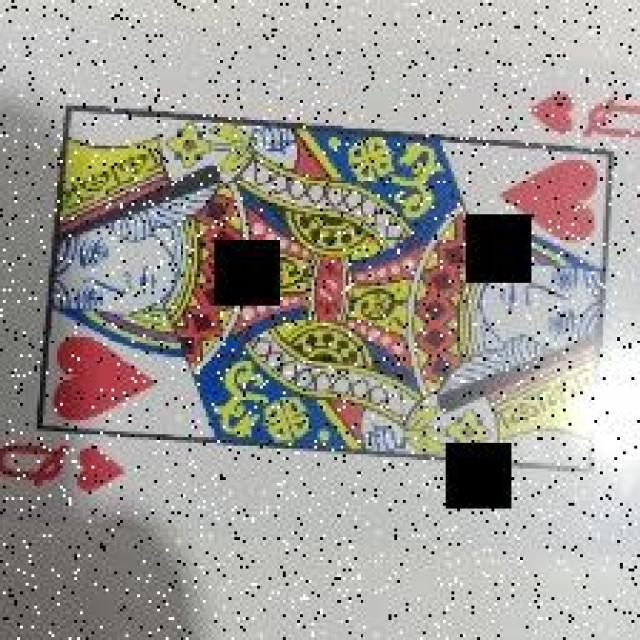Queen of hearts: (0, 46, 640, 514)
